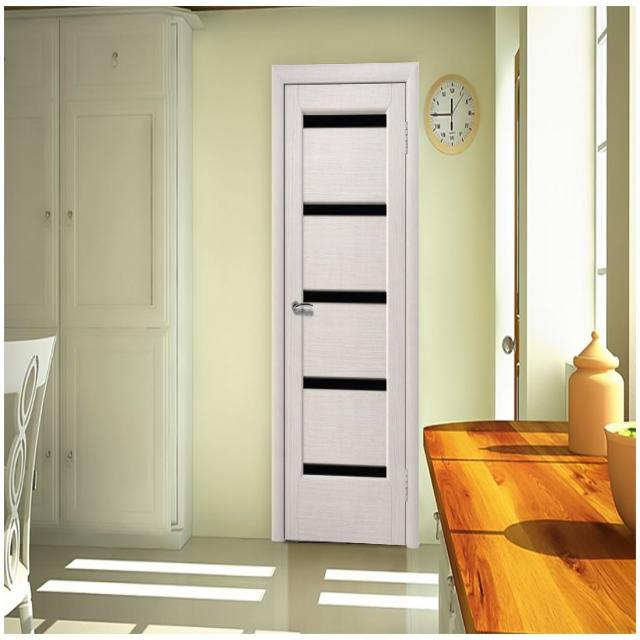close: (279, 74, 414, 554)
